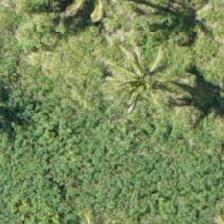coconut_tree: (95, 45, 185, 135)
